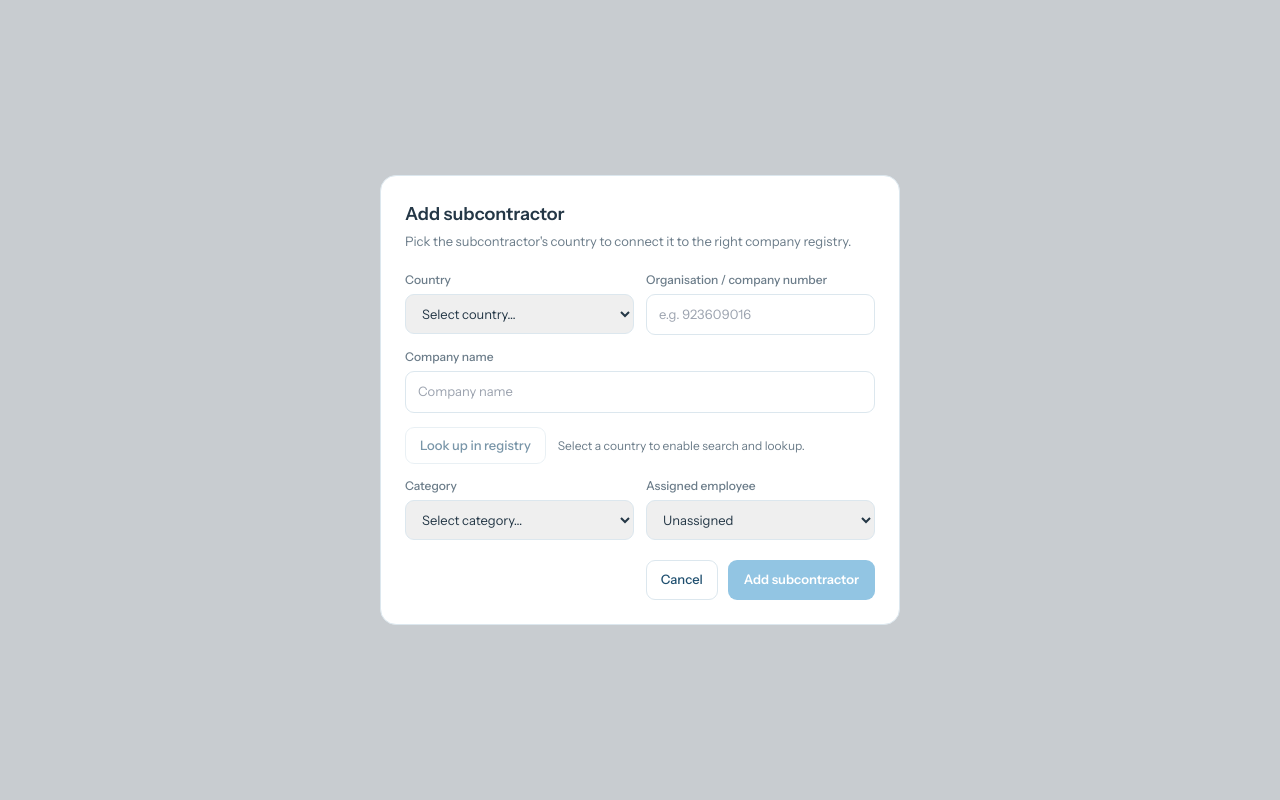
Test: AddSubcontractorModal registry search and lookup › a provider search error is shown instead of silently appearing as no results
Select "United Kingdom" in the dropdown below "Organisation / company number": (520,314) left=405, top=294, right=634, bottom=334
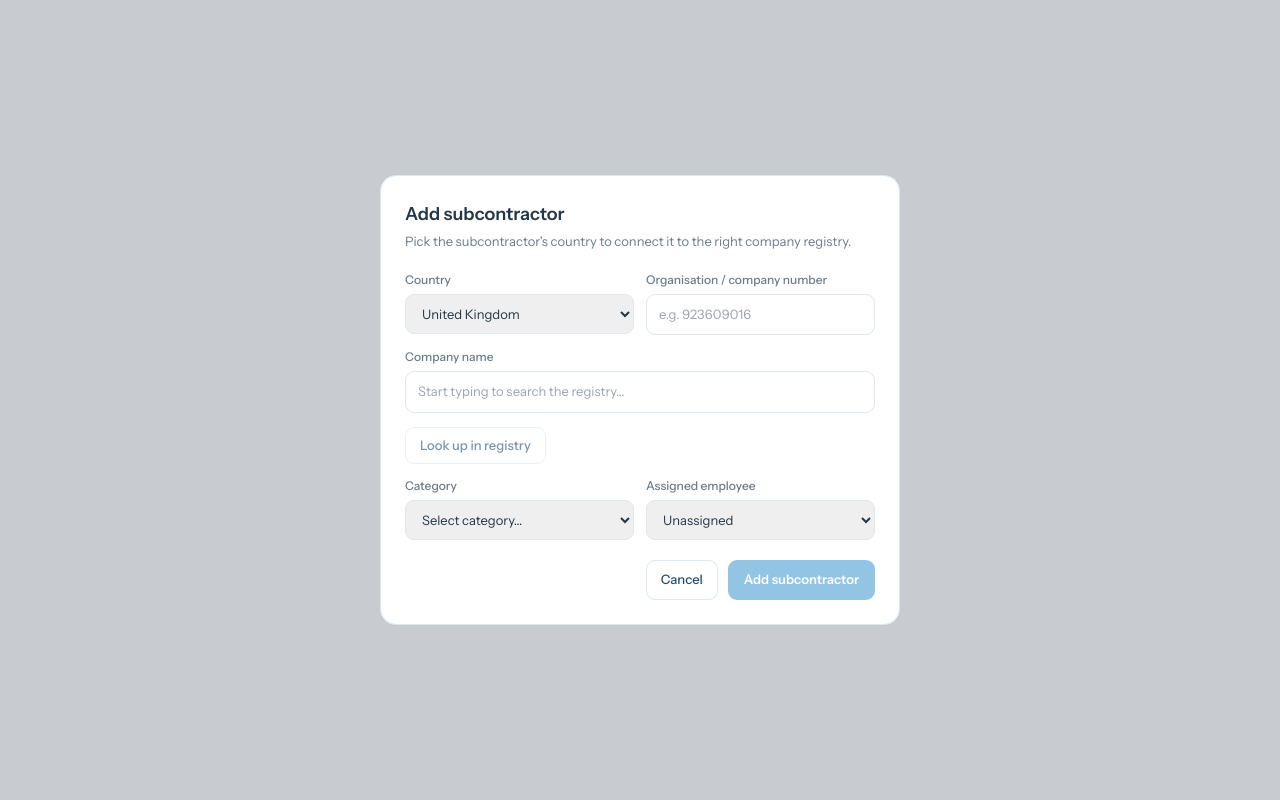
In the field with placeholder "Start typing to search the registry…": (640,392) left=405, top=371, right=875, bottom=413, type "Tesco"
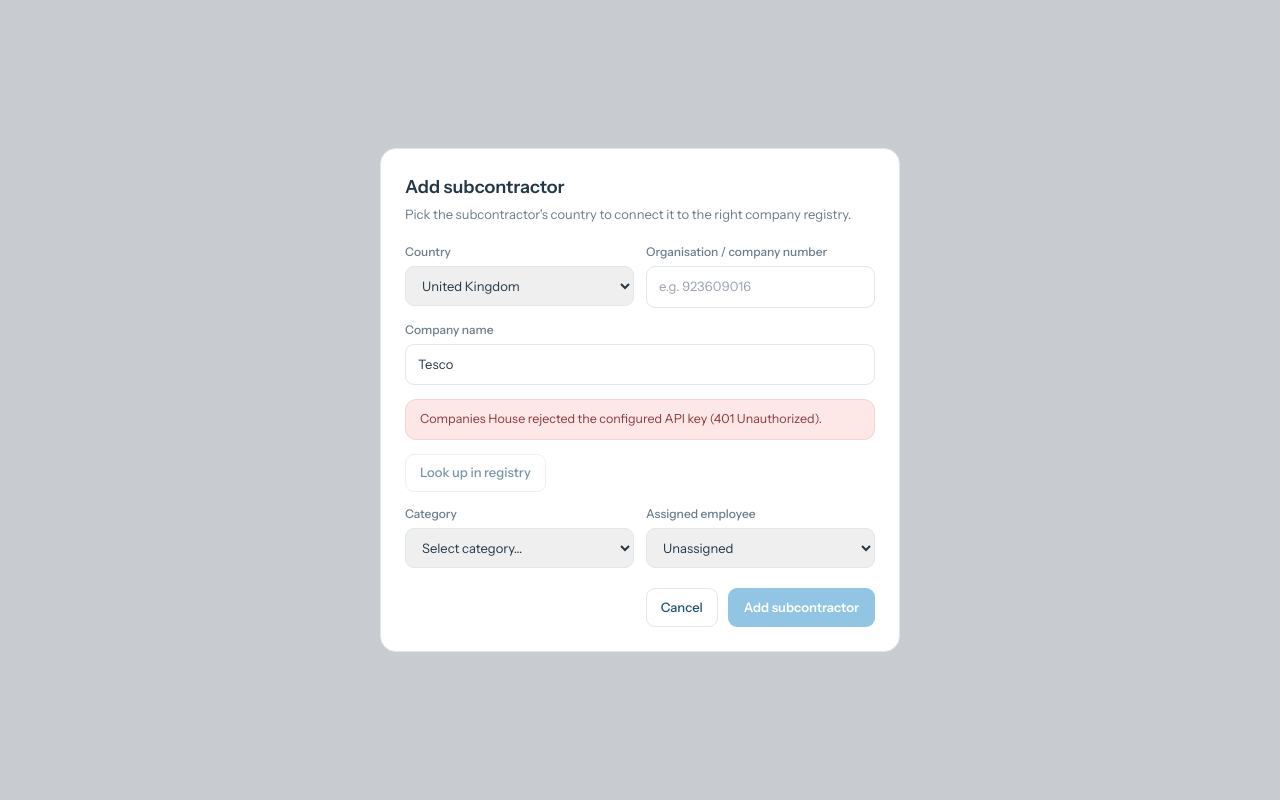
Result: the text "rejected the configured API key" is shown at left=420, top=411, right=822, bottom=426
